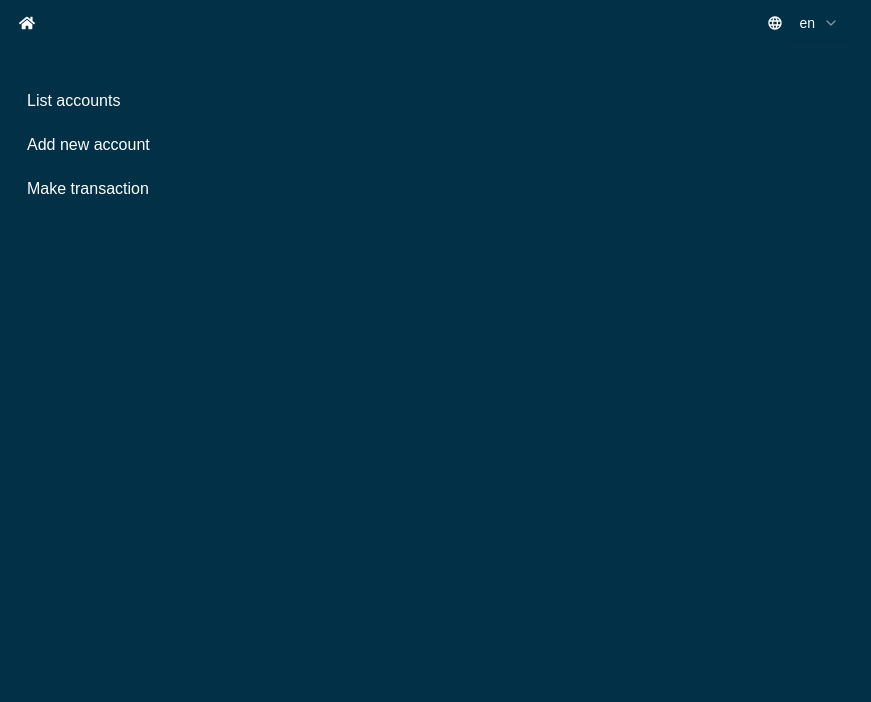
List accounts › should display and filter accounts
The width and height of the screenshot is (871, 702).
Click the link "List accounts".
click(74, 101)  # box top-left (27, 92), bottom-right (120, 109)
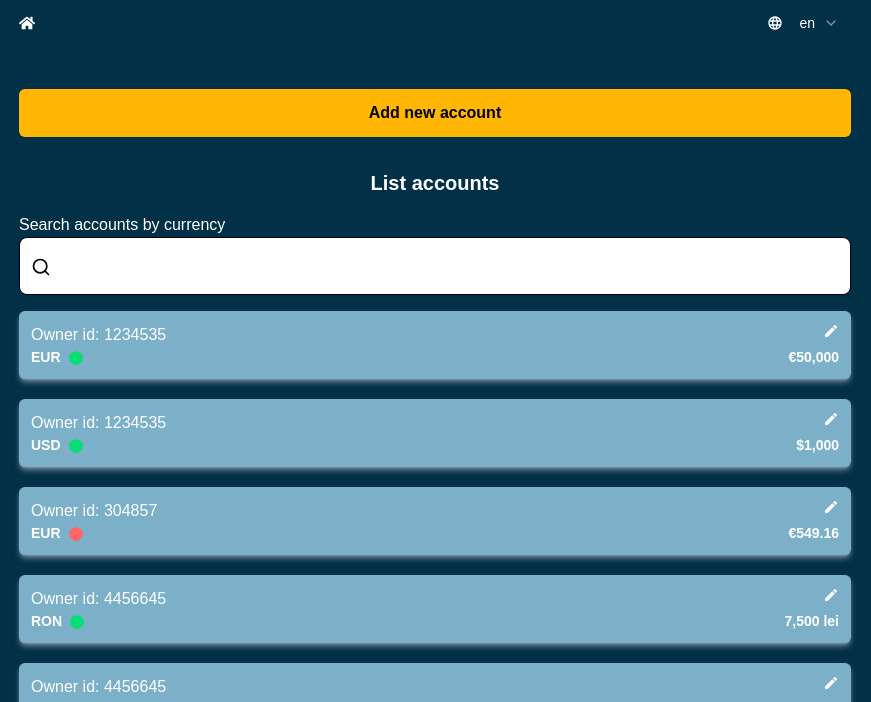
Expected: the heading "List accounts" is shown, top-left (370, 172), bottom-right (499, 194)
Expected: the number of elements with test id "card" is 8
# search by currency
Type "EUR" into the field.
click(435, 266); type("EUR")  # box top-left (19, 237), bottom-right (851, 295)
Then press Enter
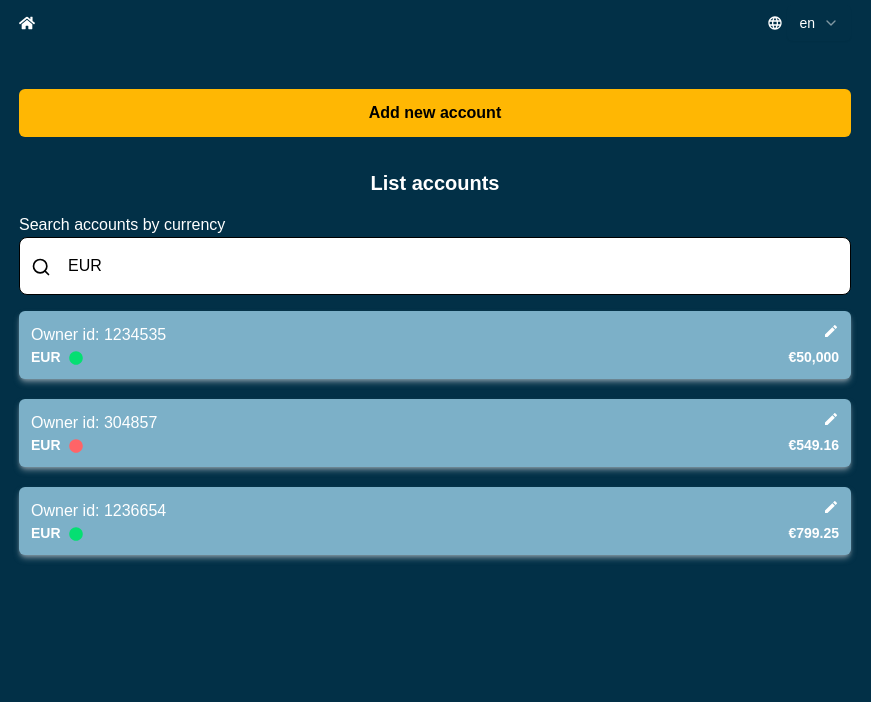
Expected: the number of elements with test id "card" is 3, top-left (19, 311), bottom-right (851, 379); top-left (19, 399), bottom-right (851, 467); top-left (19, 487), bottom-right (851, 555)
